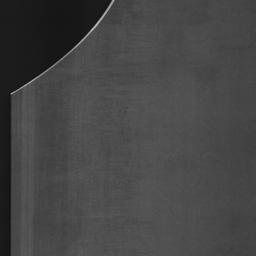Crescent gap: (12, 0, 110, 91)
